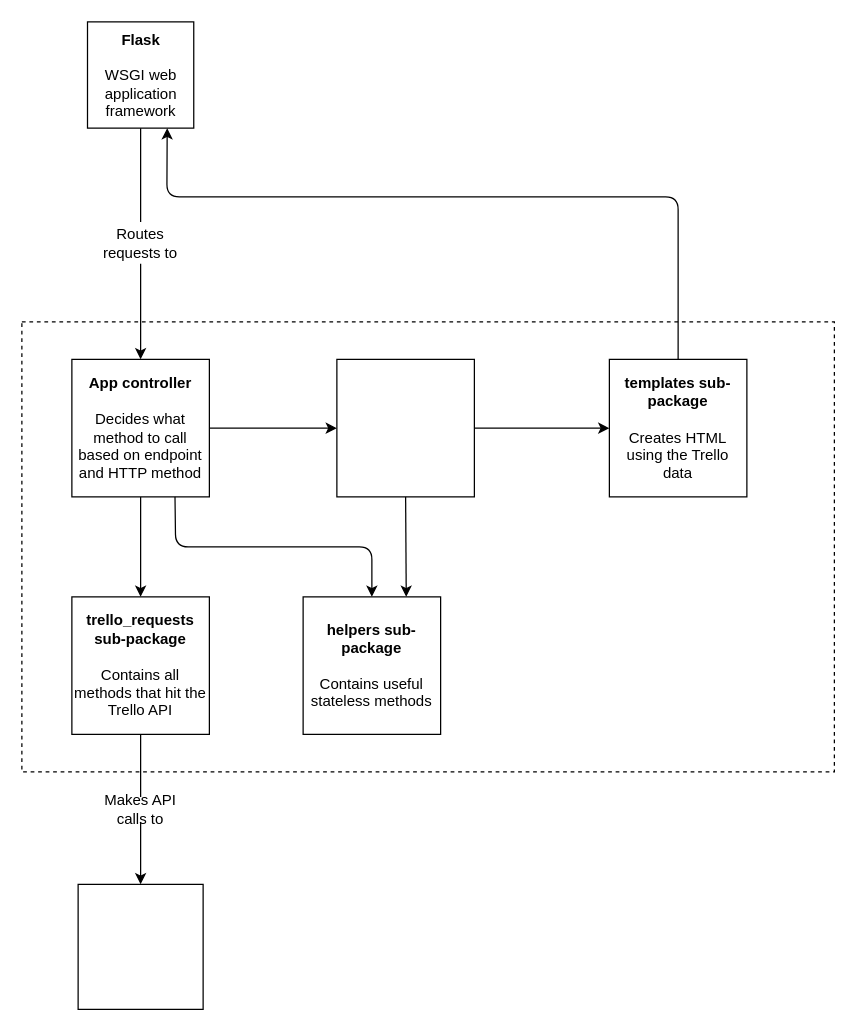
This 856x1031 diagram has some shape labels left out. Each missing label, with the centre of its shape:
"Trello Stores names and states of list items" belongs at (140,946).
"views sub-package Prepares the data to be used in HTML templates" belongs at (405,427).
